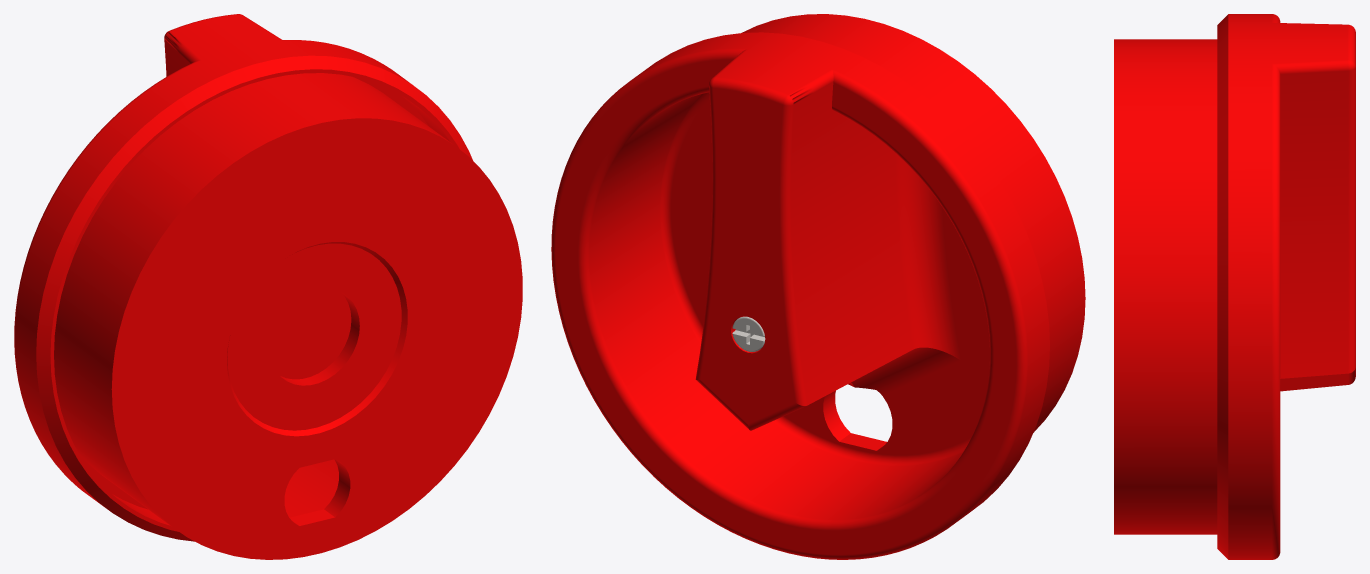
The model's file is KnobMainSwitch.glb.
The picture shows the model from 3 angles, left to right: view 1: azimuth 30°, elevation 25°; view 2: azimuth 150°, elevation 25°; view 3: azimuth 270°, elevation 25°; orthographic projection. The views are drawn at different scales.
Visible parts, largest first — view 1: KnobMainSwitch; view 2: KnobMainSwitch; view 3: KnobMainSwitch.
Part boxes in pixels (x1,y1,x2,y2): KnobMainSwitch: (14,14,522,559); KnobMainSwitch: (551,14,1085,559); KnobMainSwitch: (1114,14,1355,559).
Size of the model in its own units: 0.1625 by 0.1625 by 0.072.
